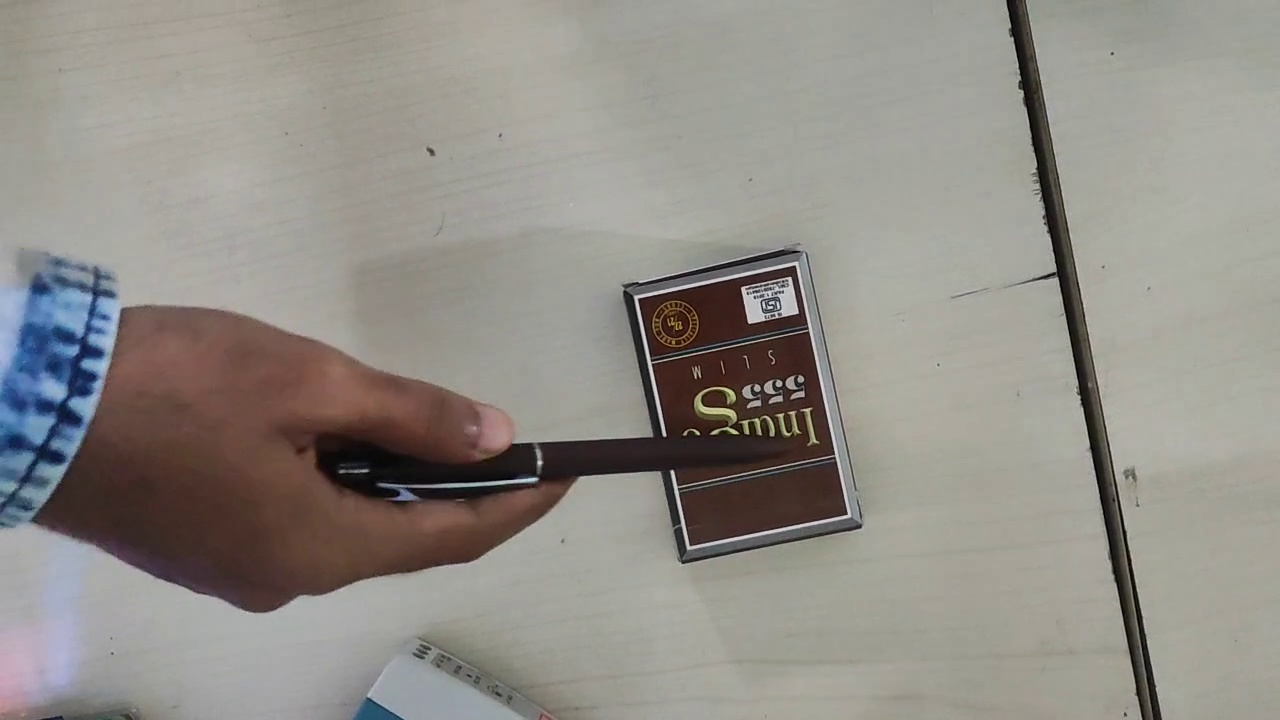BEX: (632, 260, 848, 548)
